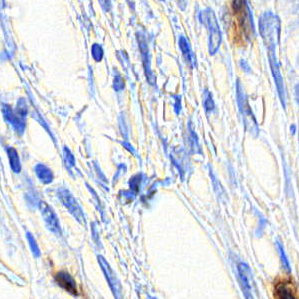Lymphocyte: (52, 269, 84, 295)
